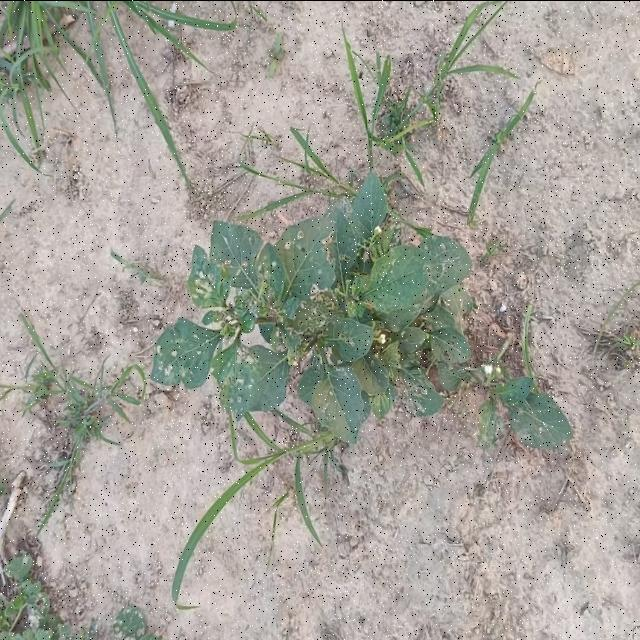weed: (151, 171, 477, 443), (495, 377, 572, 446)
